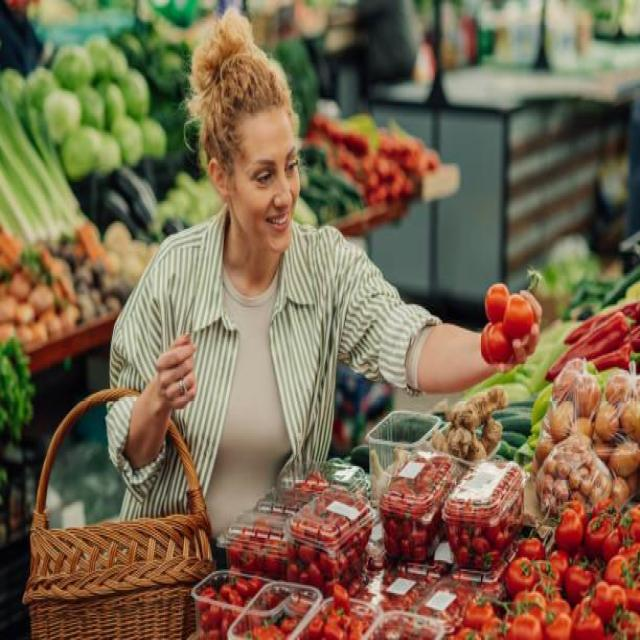article: (503, 293, 534, 339), (481, 322, 511, 362), (485, 282, 509, 323)
hands: (418, 290, 541, 391), (124, 334, 196, 466)
person: (106, 13, 489, 536)
